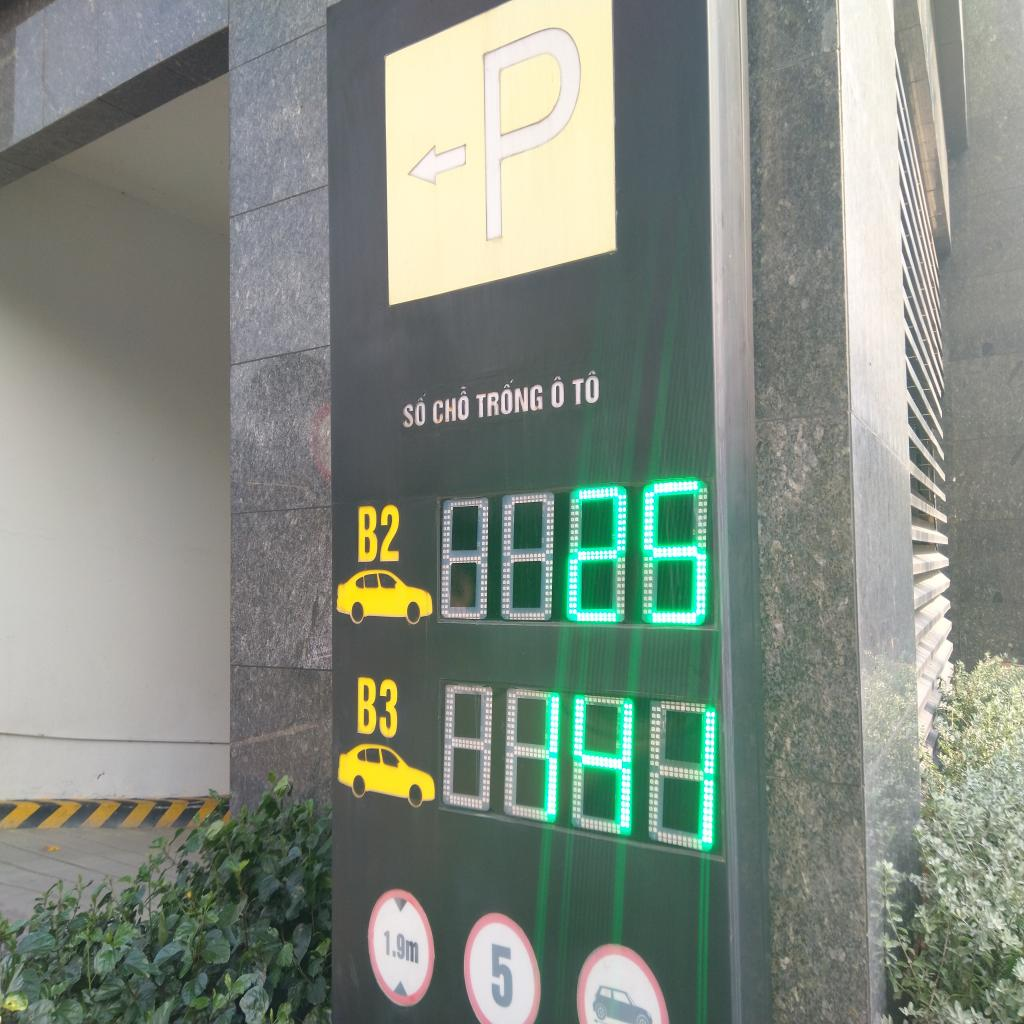text: (563, 469, 713, 633), (480, 7, 584, 243), (474, 371, 544, 421), (355, 501, 403, 565), (355, 674, 399, 742), (490, 941, 516, 1012), (431, 381, 471, 425), (381, 924, 421, 968), (572, 366, 602, 408), (402, 390, 428, 432), (550, 371, 566, 411)
